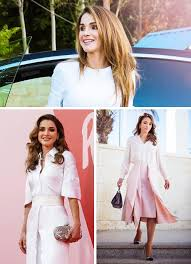middle_eastern_Female: (75, 11, 116, 51), (37, 116, 60, 147), (137, 117, 153, 133)
